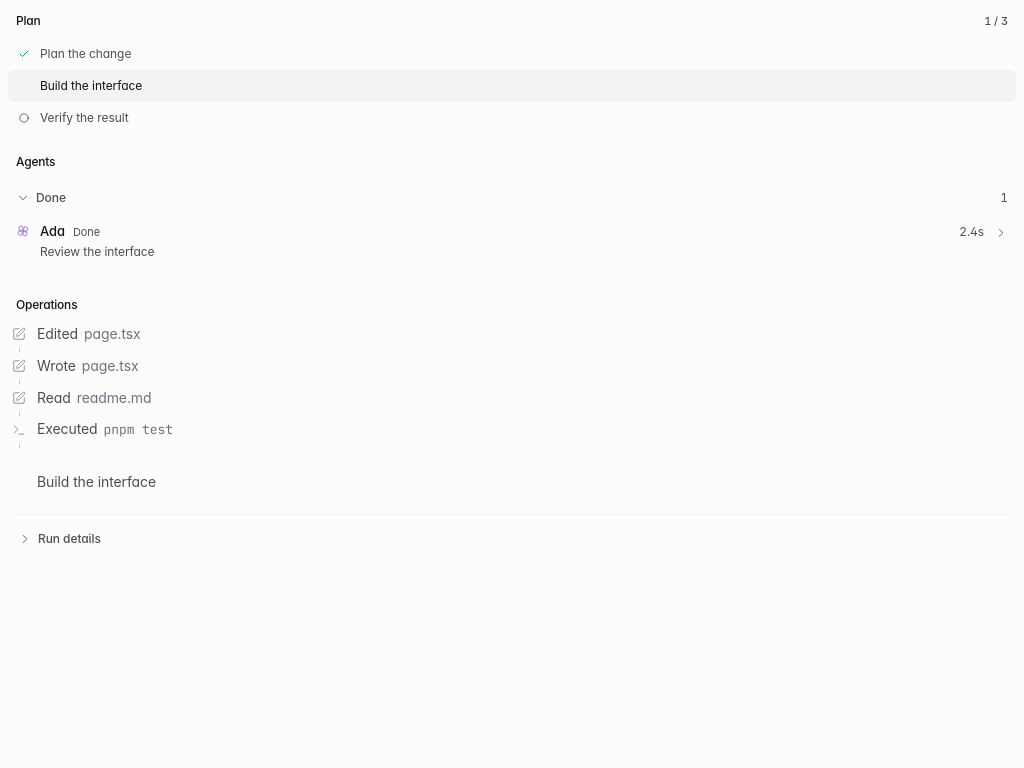
AgentActivityPanel › shows explicit plan, file, tool, and subagent progress
This screenshot has width=1024, height=768.
expect the text "2 (1 active)" is not shown: met
Click the heading "Run details" at (59, 538), box [18, 530, 101, 546]
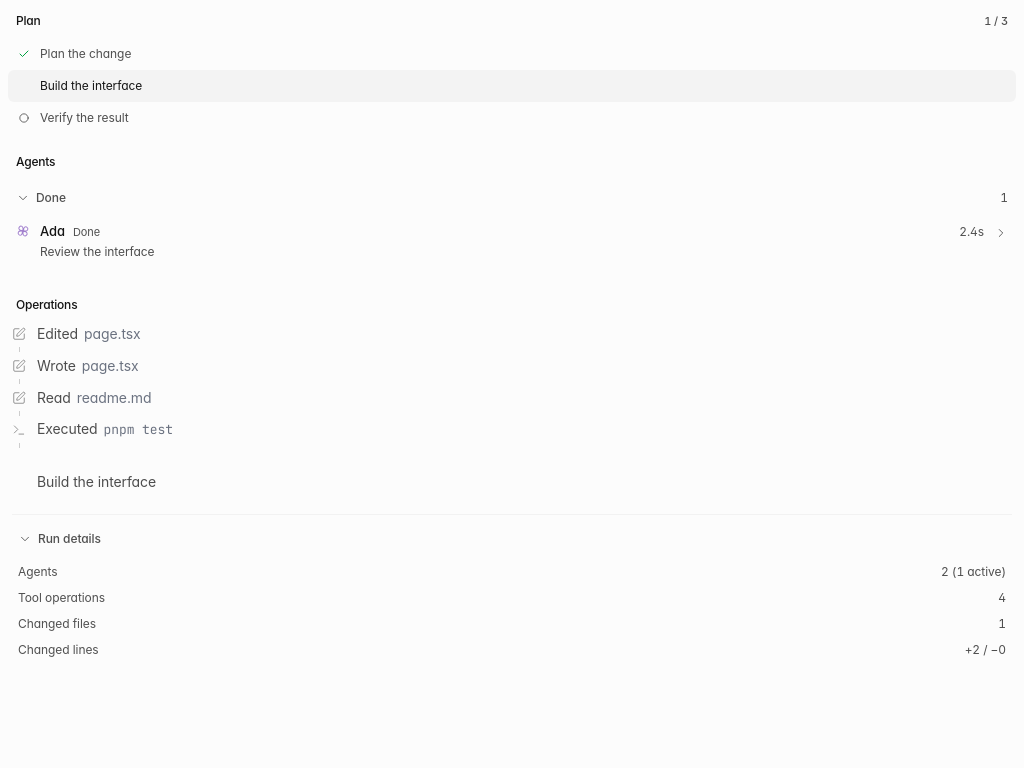
expect the text "2 (1 active)" is shown: met, box [941, 564, 1006, 578]
expect the text "4" is shown: met, box [998, 590, 1006, 604]
expect the text "1" in the row of "Changed files" is shown: met, box [998, 616, 1006, 630]
Click the button with aria-label "Show details for Ada" at (97, 251), box [8, 214, 1016, 268]
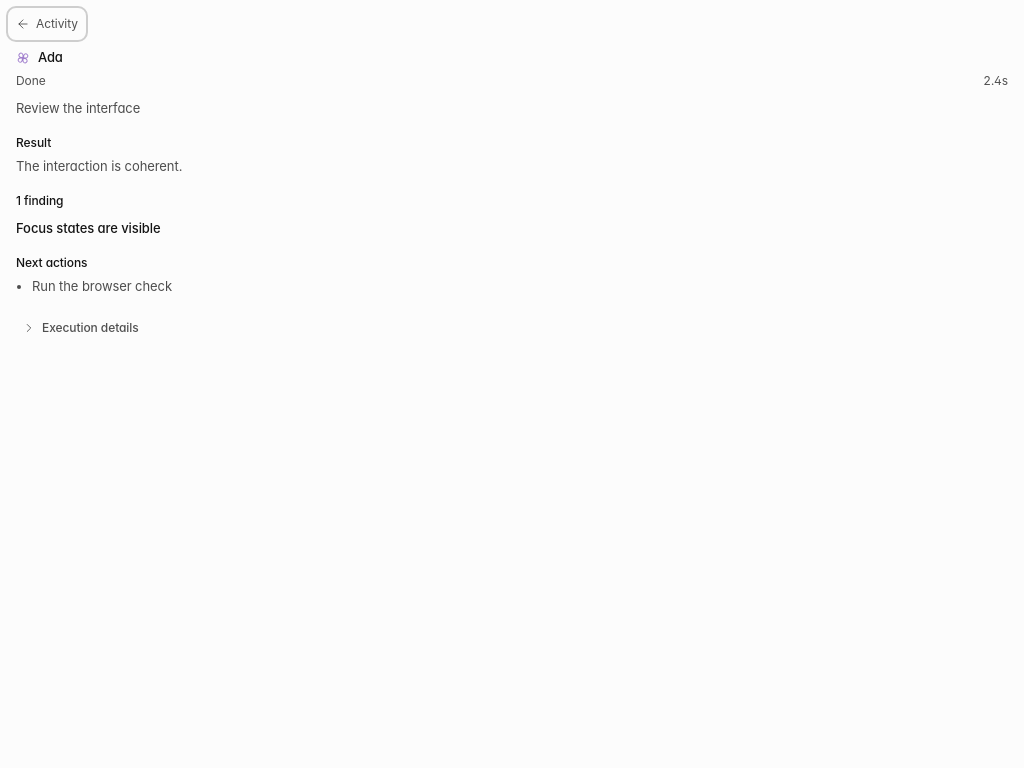
expect the text "The interaction is coherent." is shown: met, box [16, 158, 182, 174]
expect the heading "1 finding" is shown: met, box [16, 192, 63, 208]
expect the list item "Run the browser check" is shown: met, box [32, 278, 172, 294]
